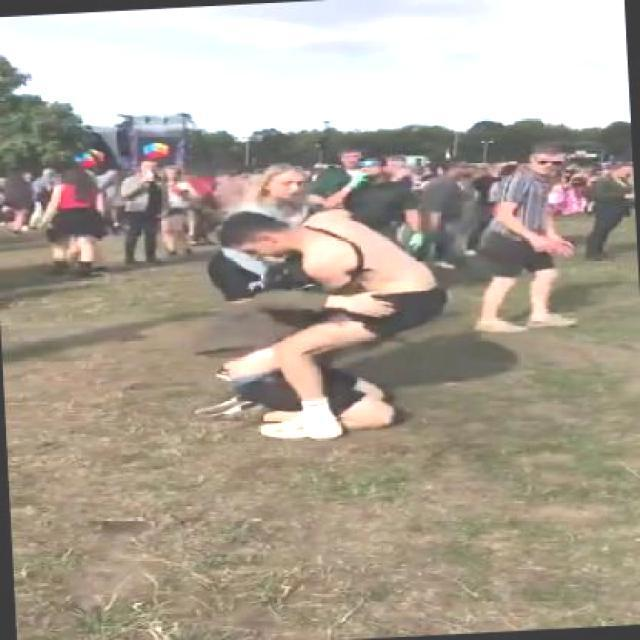fight: (170, 195, 456, 443)
